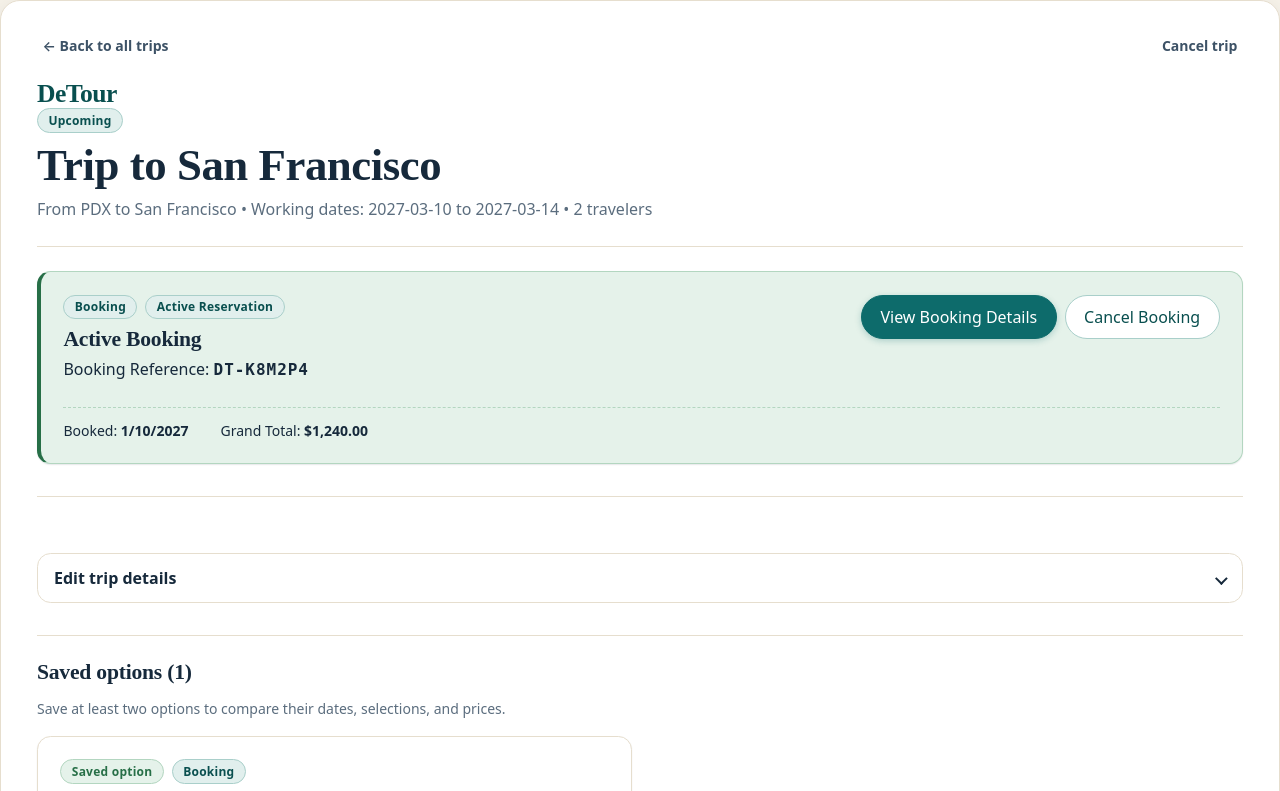
Test: Fee-Free Cancellation and Post-Cancellation Triage › Cancel Booking button opens CancelBookingModal with fee-free explanation and inventory notice
The image size is (1280, 791).
Click the button "Cancel Booking". click: click(1142, 316)
box: [1065,294,1220,338]
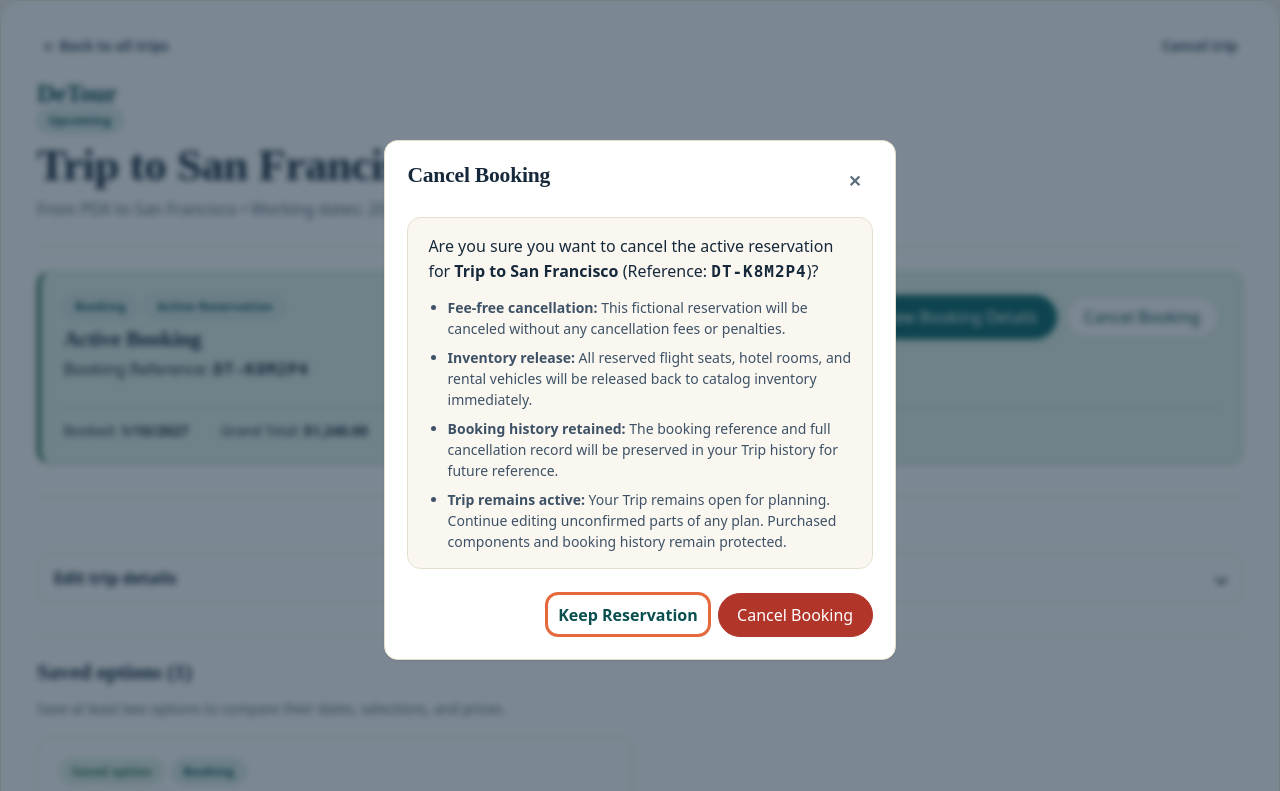
Expected: the dialog "Cancel Booking" is shown, [384,140,896,660]
Expected: the text "Fee-free cancellation:" is shown, [448,298,598,317]
Expected: the text "Inventory release:" is shown, [448,348,575,367]
